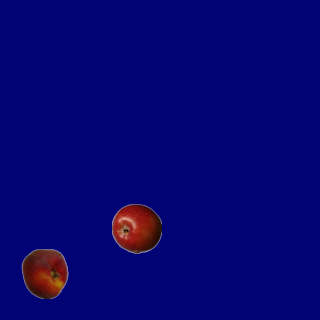Apple Braeburn: (111, 203, 161, 253)
Nectarine Flat: (19, 248, 69, 298)
